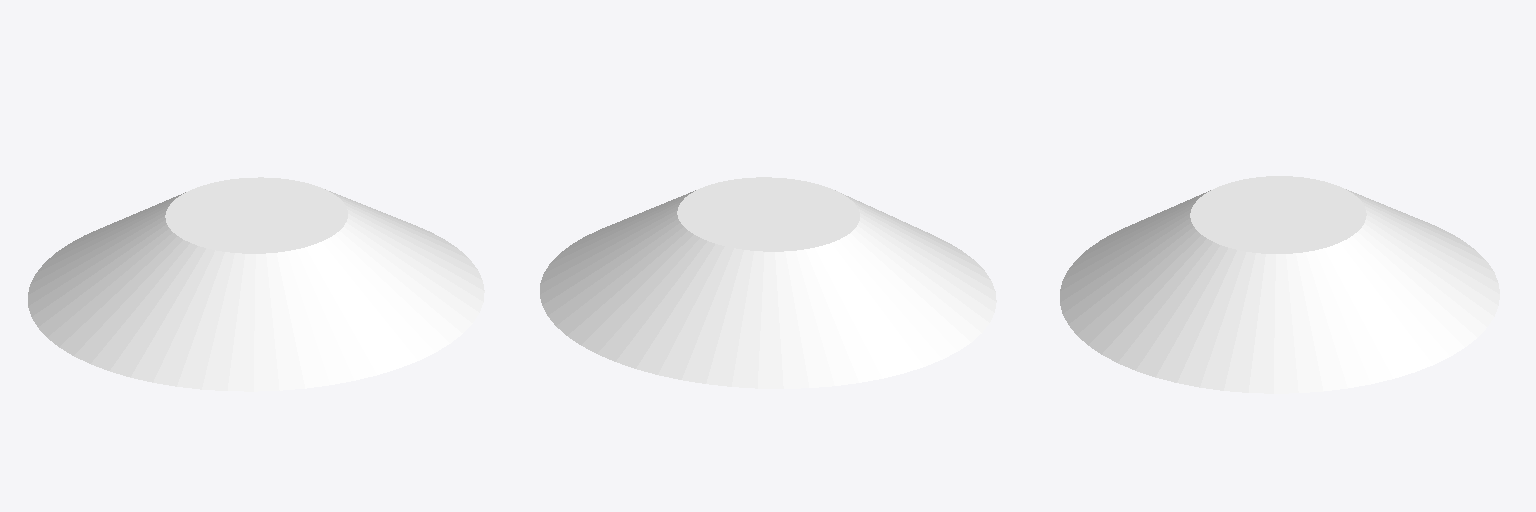
The model's file is stone_collision.obj.
The picture shows the model from 3 angles: view 1: azimuth 30°, elevation 25°; view 2: azimuth 150°, elevation 25°; view 3: azimuth 270°, elevation 25°; orthographic projection.
Visible parts, largest first — view 1: Object_2_Object_0; view 2: Object_2_Object_0; view 3: Object_2_Object_0.
Boxes of the visible parts, x1,y1,x2,y2 form: Object_2_Object_0: [28, 177, 484, 391]; Object_2_Object_0: [540, 177, 996, 388]; Object_2_Object_0: [1060, 176, 1499, 393].
Bounding box in the file's own units: 9.69 × 1.92 × 9.23.